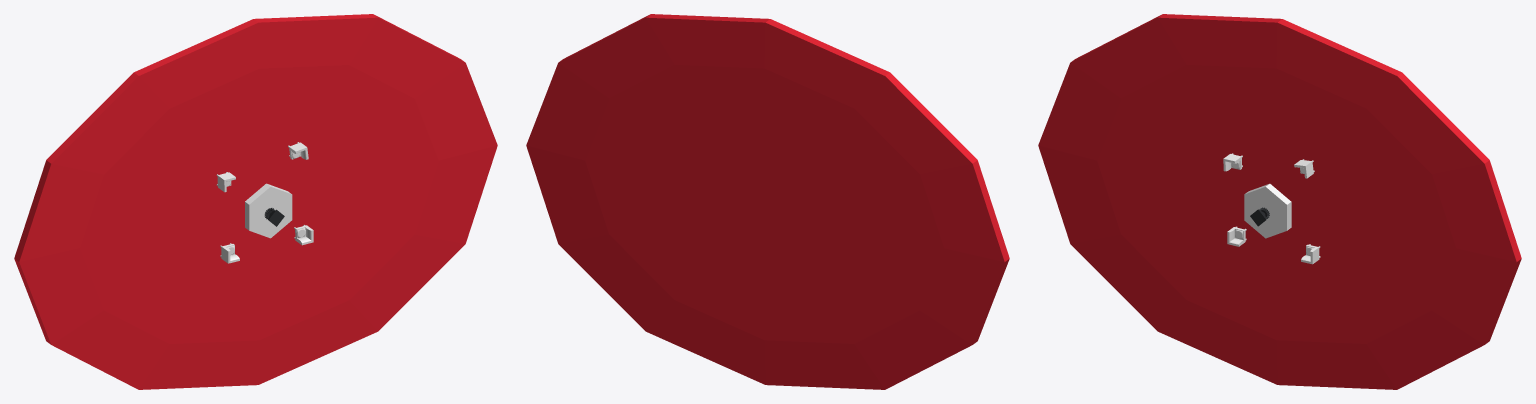
File: tinker.obj
3 views of the same model, side by side, from view 1: azimuth 30°, elevation 25°; view 2: azimuth 150°, elevation 25°; view 3: azimuth 330°, elevation 25° (orthographic).
Visible parts, largest first — view 1: group_0_15277357, group_0_16448250; view 2: group_0_15277357; view 3: group_0_15277357, group_0_16448250.
Part boxes in pixels (box(x1,y1,x2,y2)): group_0_15277357: box(14, 14, 497, 389); group_0_16448250: box(216, 142, 313, 263); group_0_15277357: box(526, 14, 1009, 389); group_0_15277357: box(1038, 14, 1521, 389); group_0_16448250: box(1223, 153, 1320, 264).
Size of the model in its own units: 818 by 592 by 73.
